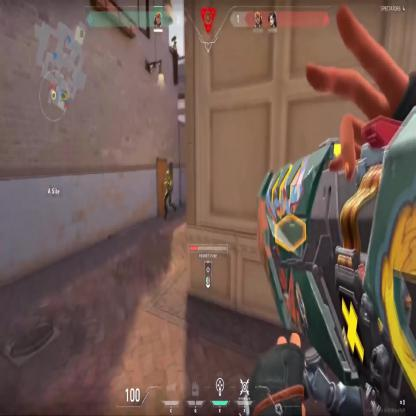enemy: (163, 170, 176, 219)
enemy_head: (166, 171, 169, 177)
